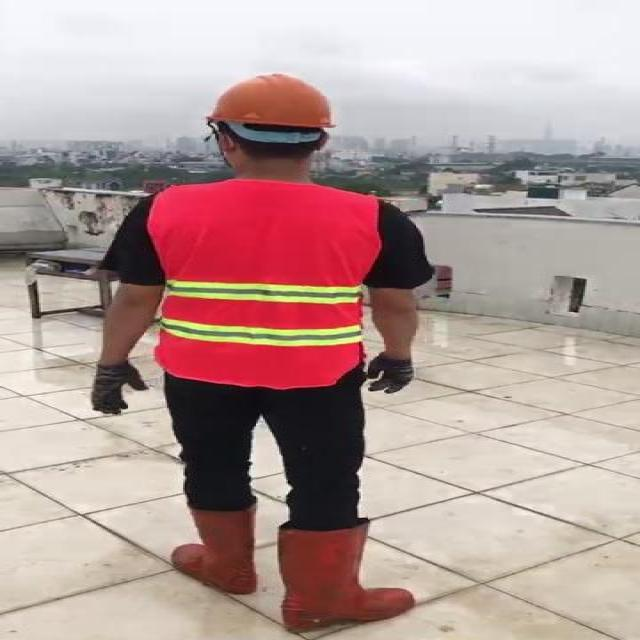boots: (274, 519, 411, 634), (170, 502, 260, 597)
hand_glove: (91, 363, 144, 414), (372, 353, 414, 393)
head_helmet: (204, 71, 334, 134)
person: (58, 66, 460, 640)
vest: (148, 179, 375, 386)
